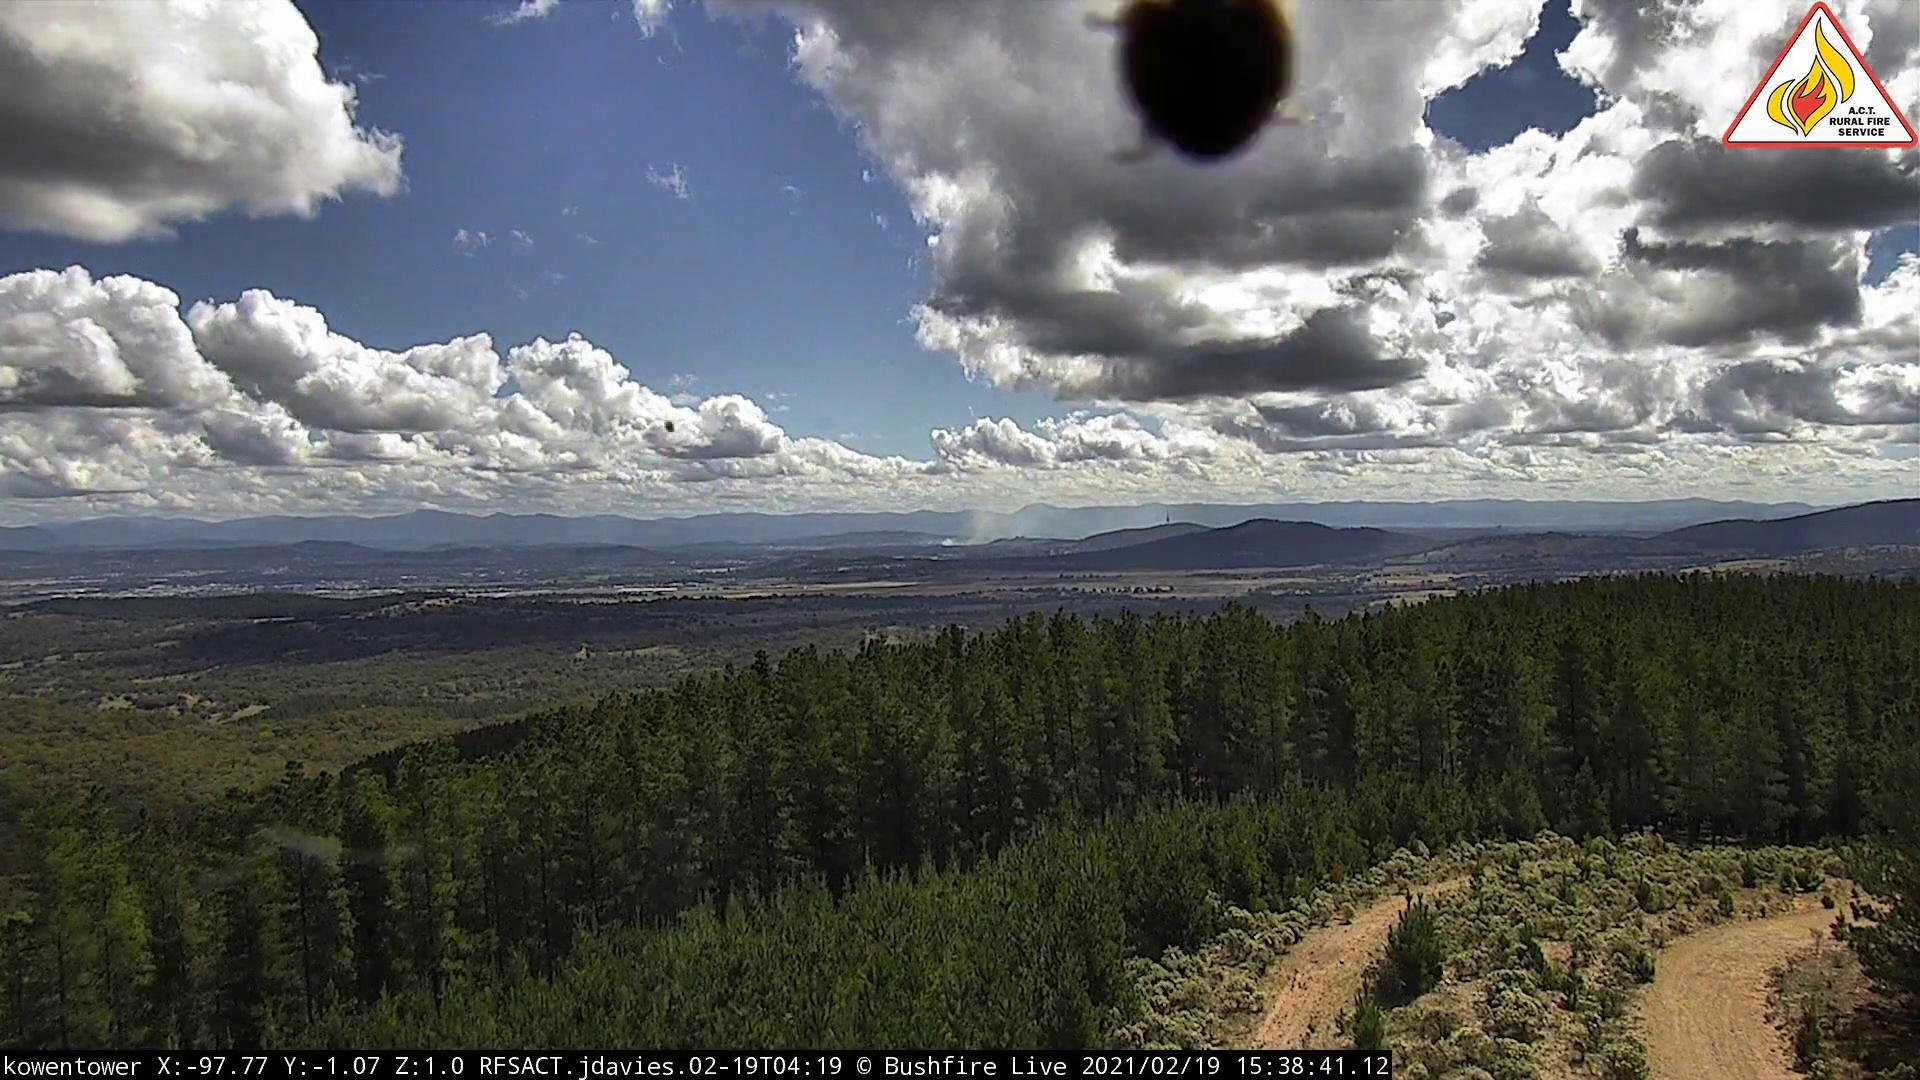Smoke: (939, 493, 1064, 554)
